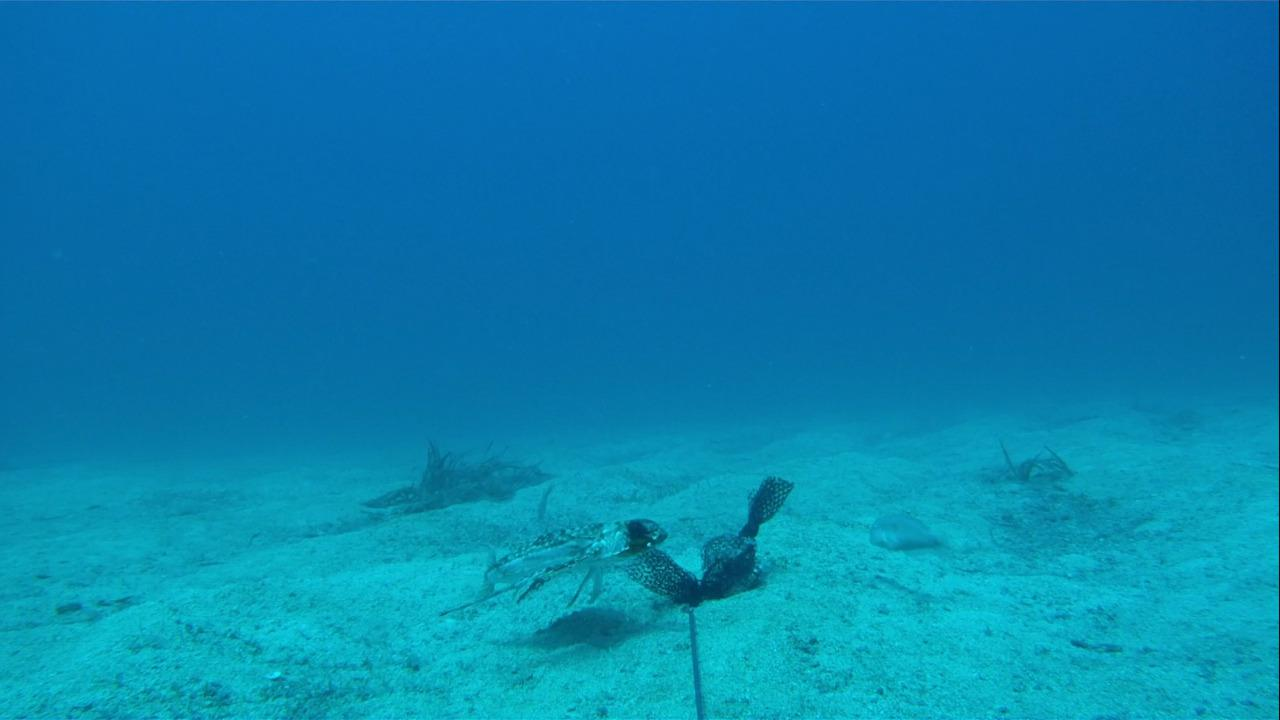dactylopterus: (436, 482, 669, 634)
raor: (864, 504, 957, 558)
